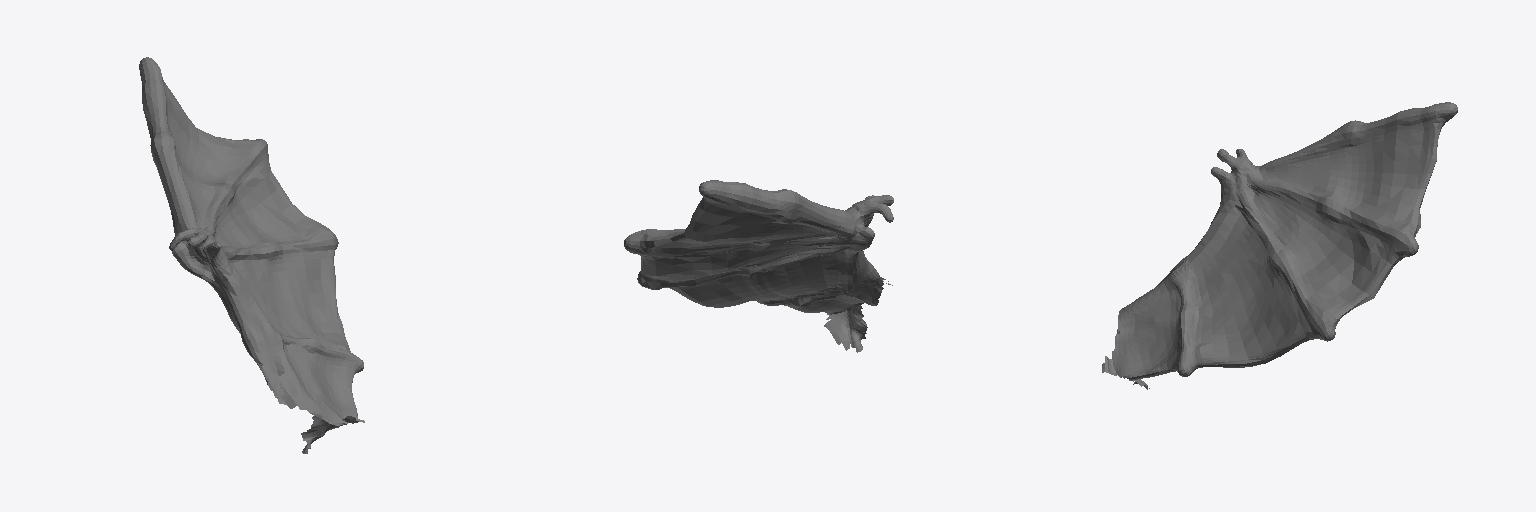
Rendered from ala_der.obj.
The picture shows the model from 3 angles: view 1: azimuth 30°, elevation 25°; view 2: azimuth 150°, elevation 25°; view 3: azimuth 270°, elevation 25°; orthographic projection.
Parts seen in each view (by area): view 1: ala_der; view 2: ala_der; view 3: ala_der.
Part boxes in pixels (left/top/right/bottom): ala_der: left=139, top=57, right=364, bottom=453; ala_der: left=624, top=180, right=893, bottom=352; ala_der: left=1102, top=102, right=1457, bottom=389.
Size of the model in its own units: 6.31 by 8.07 by 9.21.